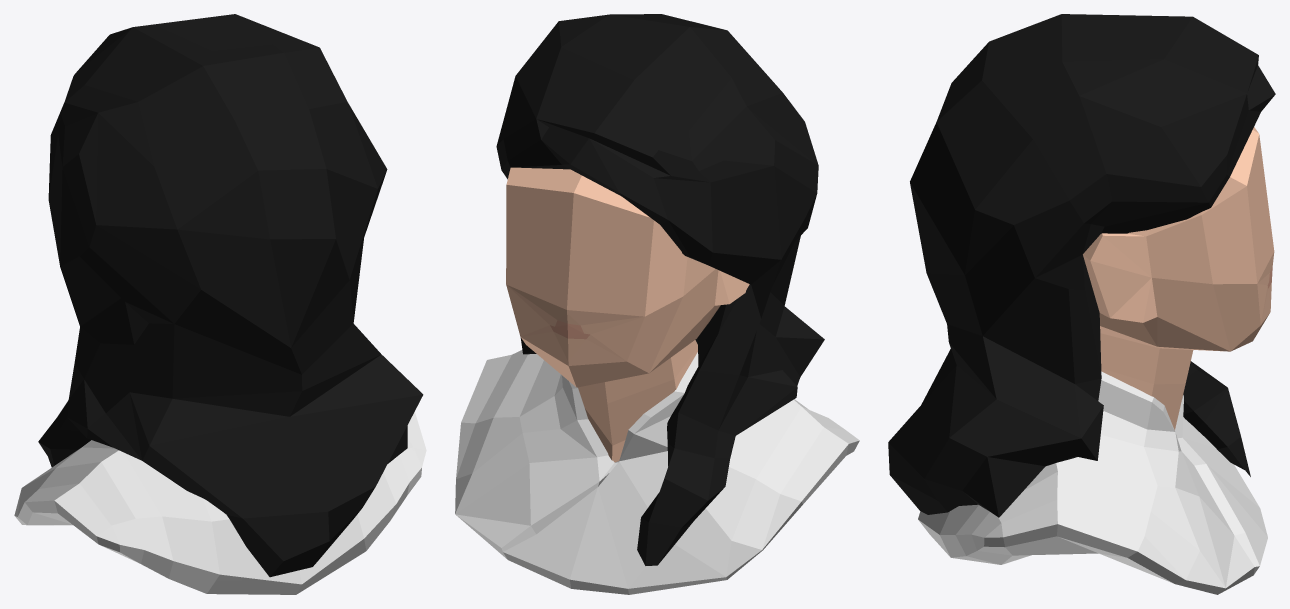
Rendered from Woman.glb.
3 renders of one model, left to right at view 1: azimuth 30°, elevation 25°; view 2: azimuth 150°, elevation 25°; view 3: azimuth 270°, elevation 25°, orthographic. The views are drawn at different scales.
Visible parts, largest first — view 1: woman; view 2: woman; view 3: woman.
Part boxes in pixels (x1,y1,x2,y2): woman: (14,14,426,594); woman: (455,14,859,594); woman: (888,14,1275,594).
Size of the model in its own units: 0.3576 by 0.4753 by 0.3189.
1 material, 1 textured.
